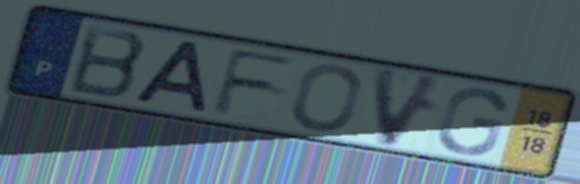A: (130, 38, 212, 115)
B: (65, 21, 151, 102)
F: (208, 46, 301, 118)
G: (433, 86, 510, 157)
O: (288, 62, 364, 133)
V: (371, 62, 450, 151)
